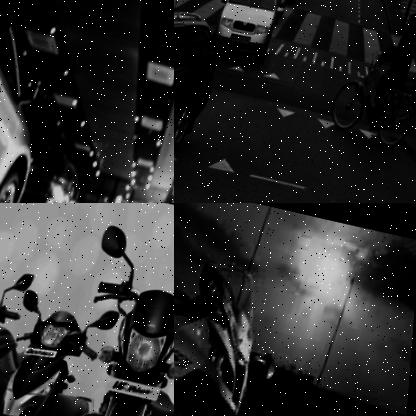bike: (5, 233, 174, 416), (174, 224, 292, 416), (0, 286, 126, 416), (0, 259, 34, 416)
car: (0, 20, 75, 203), (174, 2, 239, 203), (16, 144, 104, 203), (216, 0, 289, 51)
